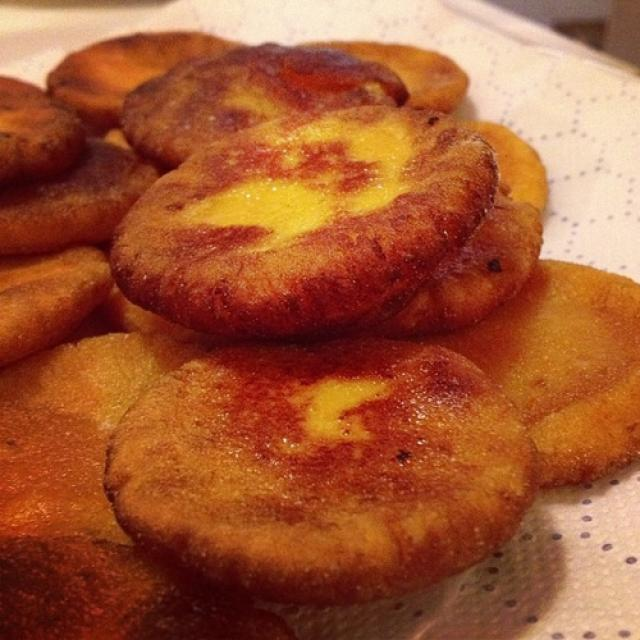炸货点心: (4, 18, 634, 613)
蛋糕甜品: (4, 18, 634, 613)
